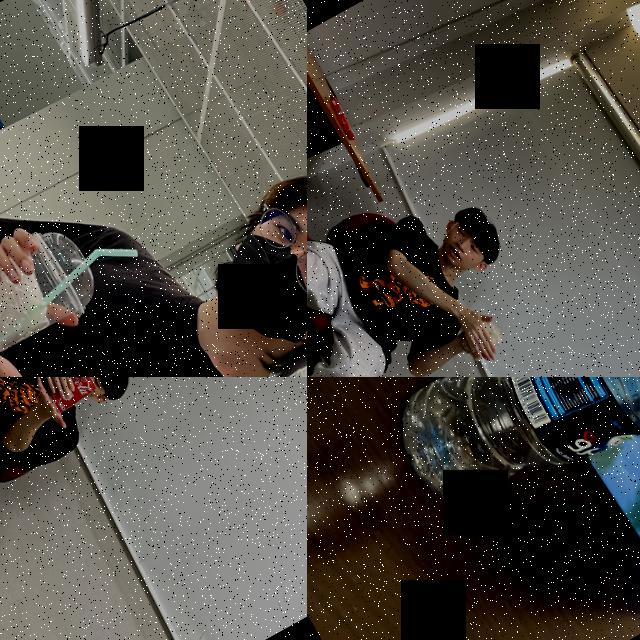bottle: (370, 377, 640, 560)
can: (45, 377, 98, 415)
cup: (0, 213, 112, 372), (452, 312, 507, 364)
